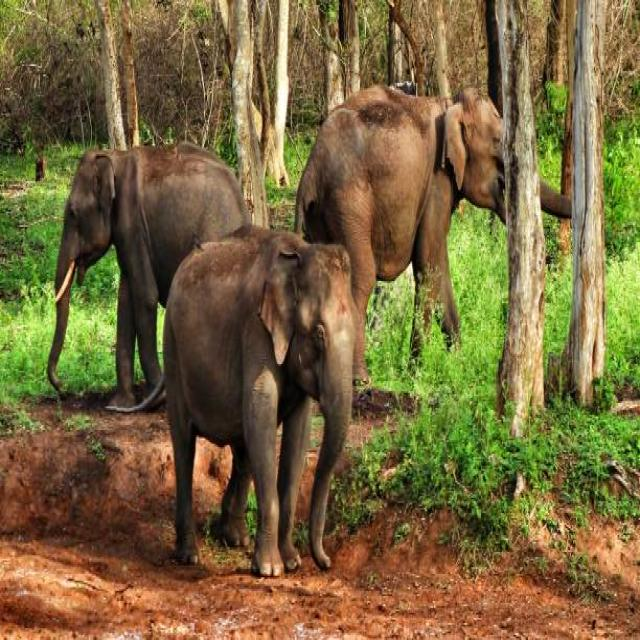Elephant: (138, 215, 359, 582), (301, 81, 560, 356), (31, 128, 250, 406)
